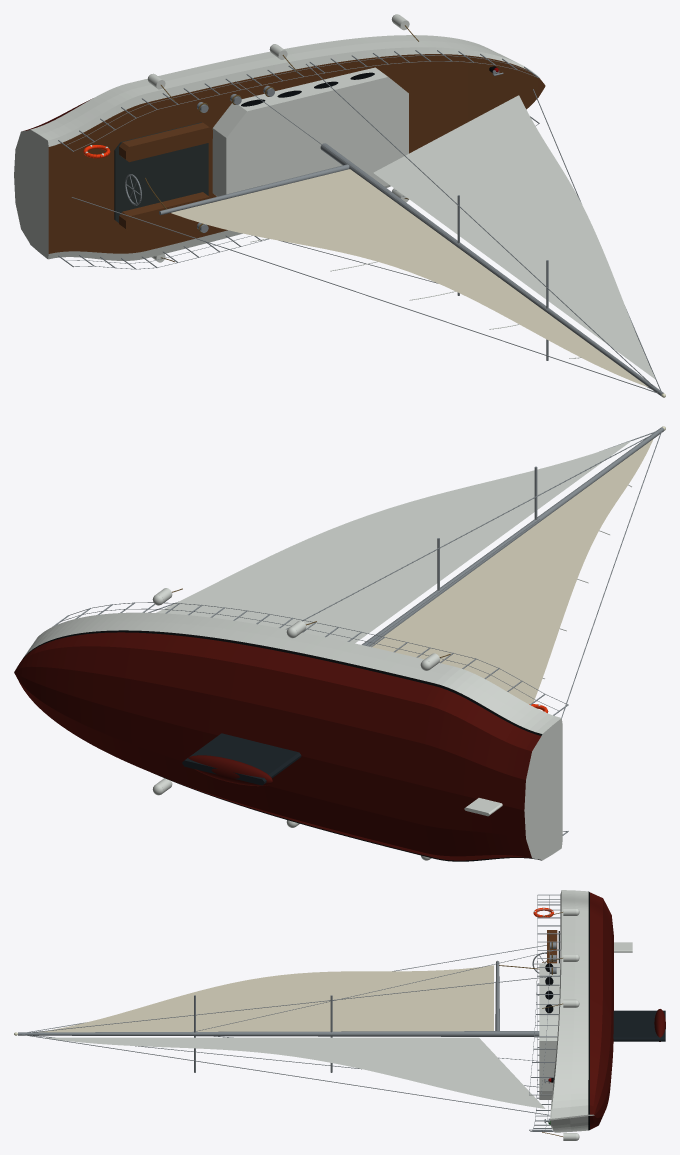
Rendered from sailboat.obj.
3 renders of one model, top to bottom at view 1: azimuth 30°, elevation 25°; view 2: azimuth 150°, elevation 25°; view 3: azimuth 270°, elevation 25°, orthographic. The views are drawn at different scales.
Size of the model in its own units: 11.8 by 4.2 by 17.67.
